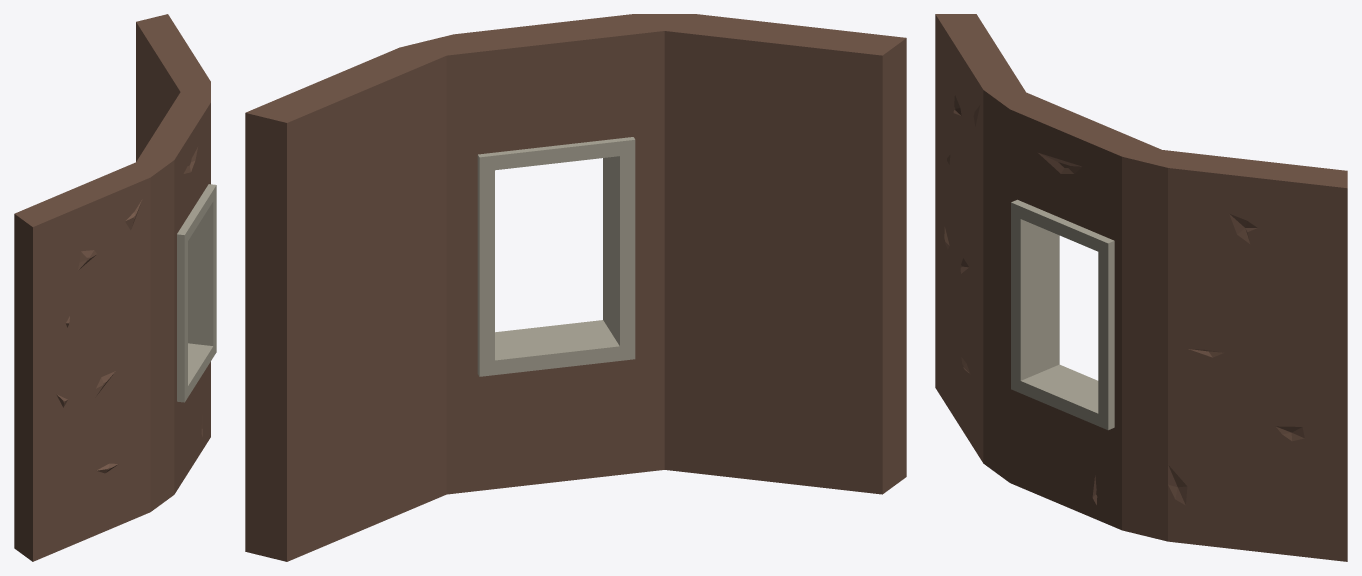
Rendered from victorian_wall_curved_1_window.fbx.
The picture shows the model from 3 angles, left to right: view 1: azimuth 30°, elevation 25°; view 2: azimuth 150°, elevation 25°; view 3: azimuth 270°, elevation 25°; orthographic projection. The views are drawn at different scales.
Parts seen in each view (by area): view 1: Cylinder.002; view 2: Cylinder.002; view 3: Cylinder.002.
Part boxes in pixels (bbox=[...]): Cylinder.002: bbox=[14, 14, 216, 561]; Cylinder.002: bbox=[245, 14, 906, 561]; Cylinder.002: bbox=[935, 14, 1347, 561].
Size of the model in its own units: 300 by 300 by 300.
